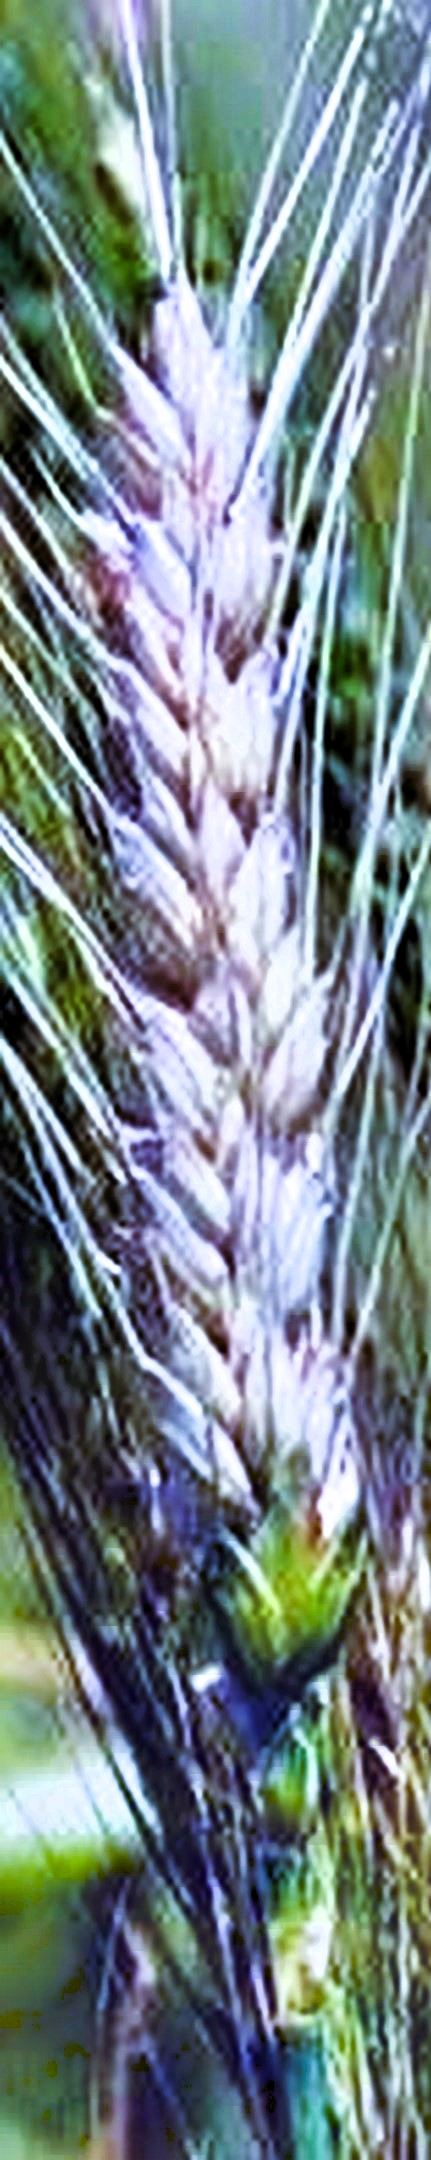Wheat scab: (65, 273, 431, 1723)
